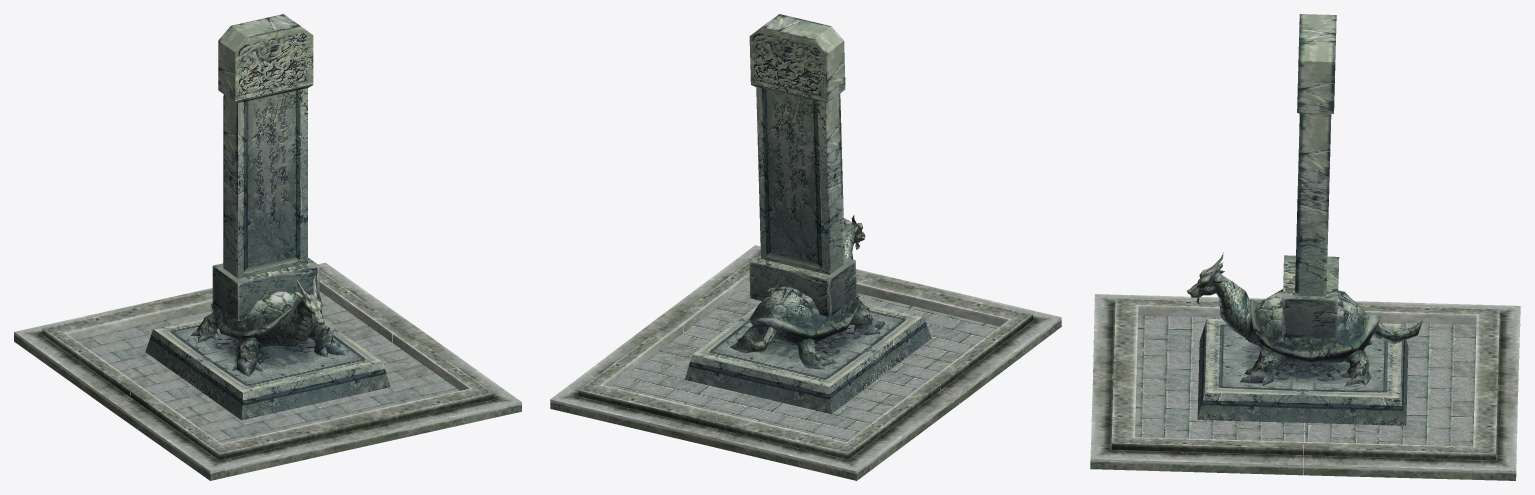
File: ShiXiang01.FBX
3 views of the same model, side by side, from view 1: azimuth 30°, elevation 25°; view 2: azimuth 150°, elevation 25°; view 3: azimuth 270°, elevation 25° (orthographic). The views are drawn at different scales.
Parts seen in each view (by area): view 1: DrawCall_0250, DrawCall_0231, DrawCall_0232; view 2: DrawCall_0250, DrawCall_0231, DrawCall_0232; view 3: DrawCall_0250, DrawCall_0231, DrawCall_0232.
Boxes of the visible parts, bbox=[...] form: DrawCall_0250: bbox=[145, 14, 390, 420]; DrawCall_0231: bbox=[14, 262, 521, 480]; DrawCall_0232: bbox=[76, 291, 459, 443]; DrawCall_0250: bbox=[685, 14, 931, 414]; DrawCall_0231: bbox=[550, 245, 1061, 480]; DrawCall_0232: bbox=[612, 283, 999, 442]; DrawCall_0250: bbox=[1187, 14, 1423, 425]; DrawCall_0231: bbox=[1090, 294, 1520, 480]; DrawCall_0232: bbox=[1135, 315, 1476, 446].
Bounding box in the file's own units: 10.4 × 11.16 × 11.64.
